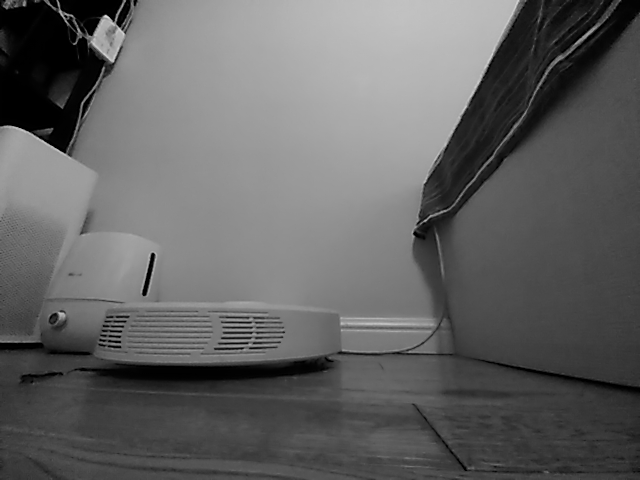wire: (341, 288, 452, 359)
